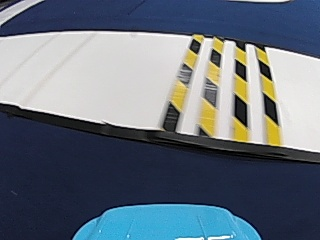bump: (156, 40, 284, 134)
